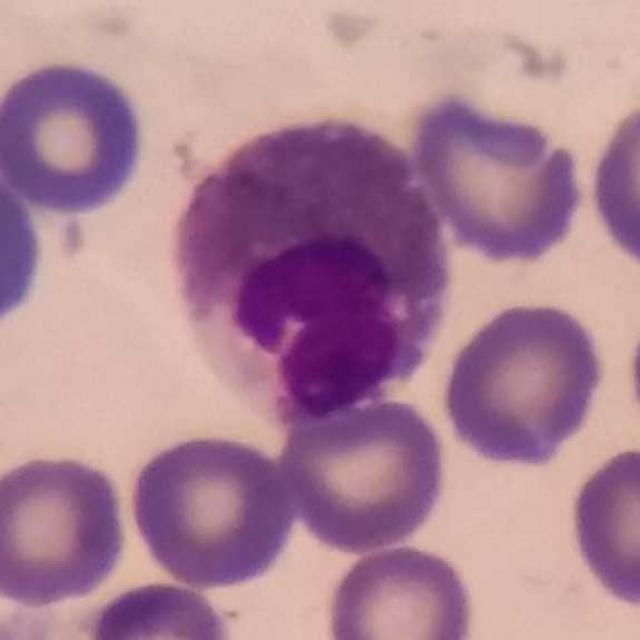Eosinophil: (162, 110, 468, 412)
RBC: (404, 89, 589, 266), (437, 296, 610, 471), (273, 392, 453, 555), (123, 427, 300, 591), (0, 53, 152, 216), (0, 447, 132, 608), (320, 540, 480, 640), (563, 441, 640, 614), (0, 130, 51, 347), (583, 92, 640, 278), (78, 577, 237, 640)
